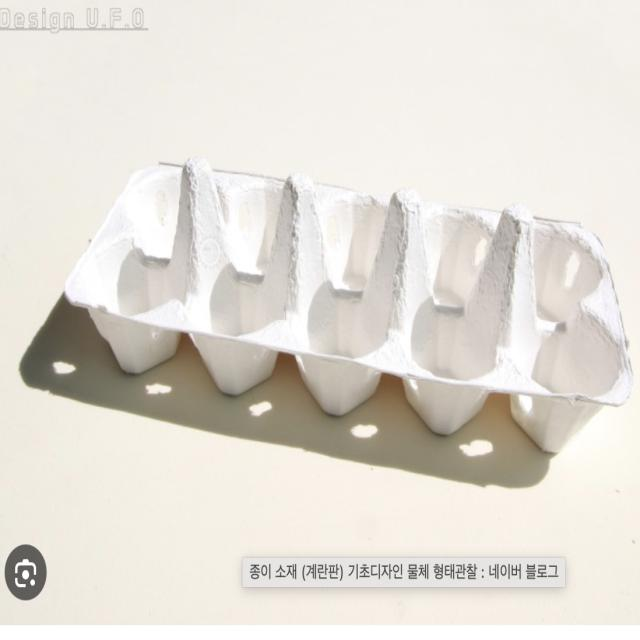biodegradable: (53, 127, 623, 467)
